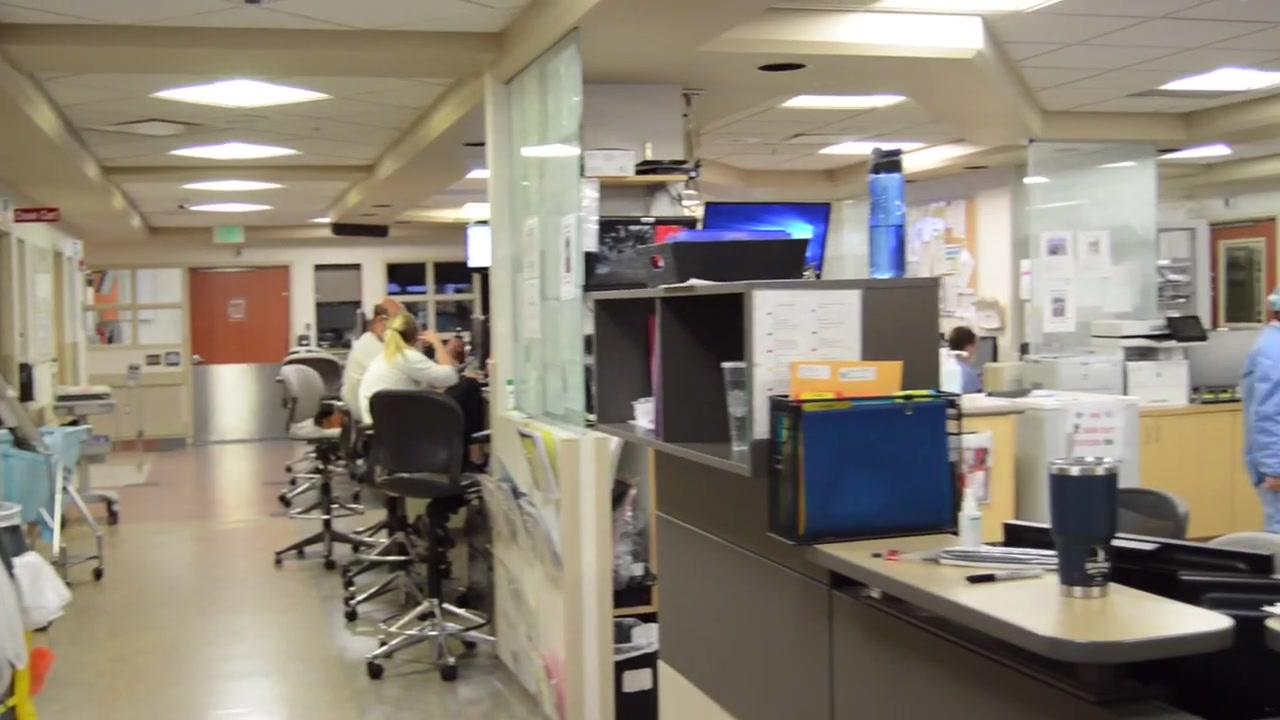TV: (703, 201, 832, 279)
chair: (363, 390, 482, 682), (274, 364, 365, 569), (274, 352, 355, 508)
computer: (1002, 517, 1276, 606), (470, 315, 489, 371)
counter: (909, 391, 1280, 530)
countertop: (807, 532, 1238, 665)
dispenser: (957, 488, 982, 547)
door_handle: (193, 356, 209, 363)
handle: (1154, 425, 1161, 443), (1144, 425, 1151, 442)
staff: (339, 298, 462, 419), (356, 313, 459, 434), (1240, 283, 1280, 533), (939, 326, 983, 392)
